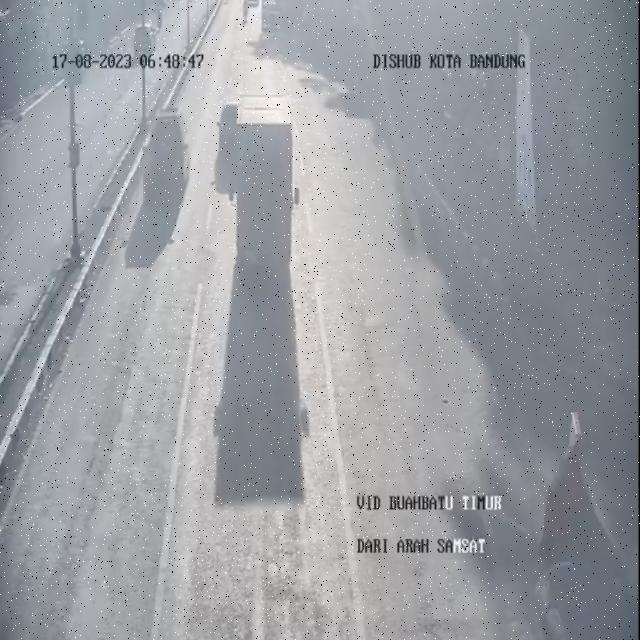cars: (143, 103, 192, 206)
motorcycle: (242, 0, 257, 27)
